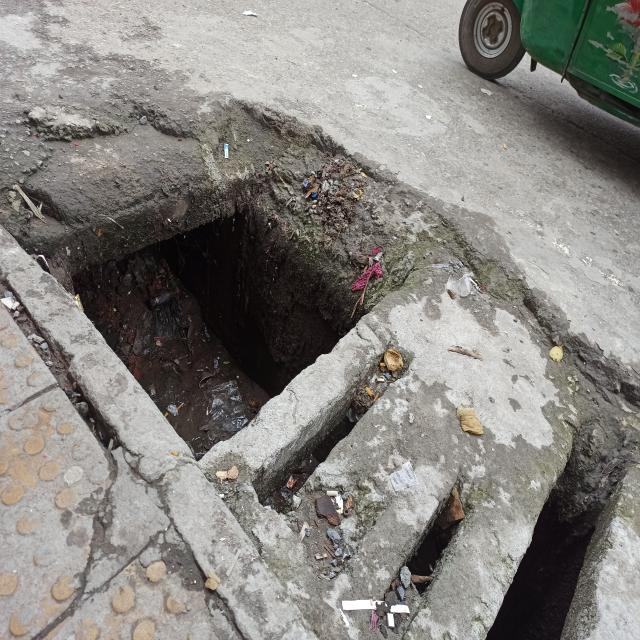drain_inlet: (24, 168, 386, 465)
